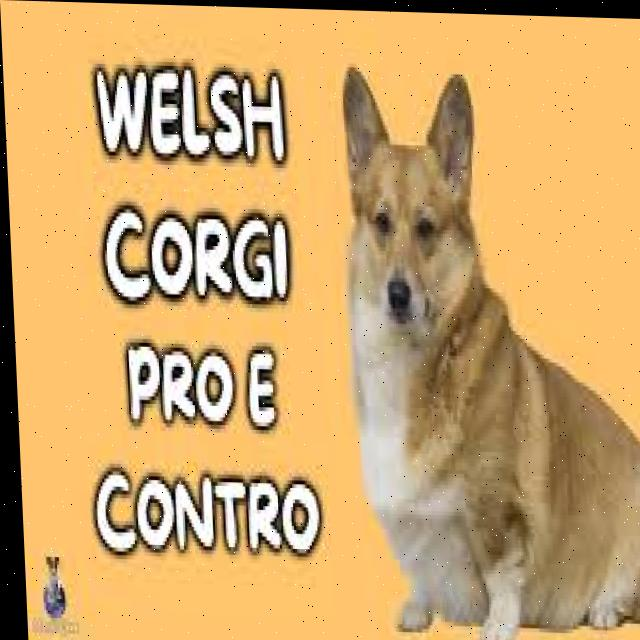CORGI: (322, 54, 640, 640)
